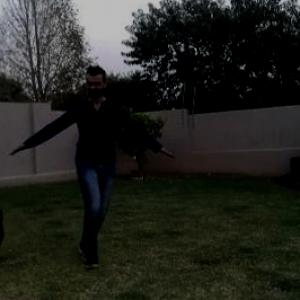land: (15, 76, 174, 252)
